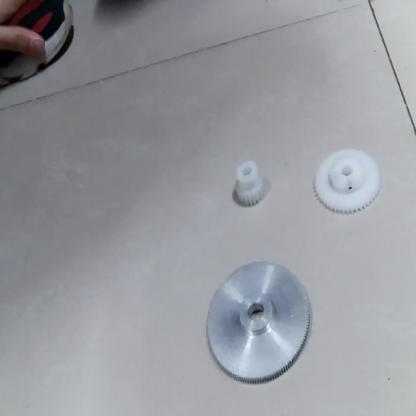FOD: (202, 257, 318, 384), (308, 145, 390, 215), (232, 160, 270, 214)
